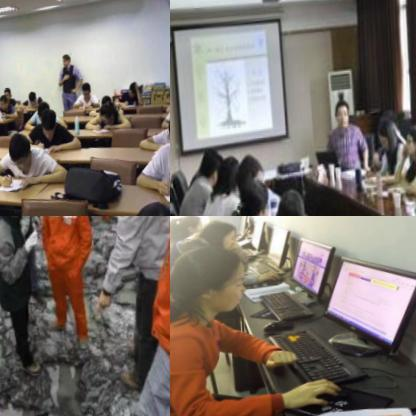head: (170, 244, 251, 325), (195, 220, 244, 266), (230, 149, 263, 204), (231, 174, 267, 216), (213, 150, 242, 198), (272, 183, 309, 216), (373, 114, 398, 158), (197, 144, 221, 188), (170, 216, 206, 245), (7, 136, 31, 176), (330, 98, 349, 133), (38, 112, 57, 146), (401, 125, 416, 167), (97, 107, 115, 135), (36, 104, 51, 125), (126, 87, 140, 107), (79, 84, 90, 103), (27, 93, 38, 112), (99, 98, 111, 115), (60, 56, 71, 72), (2, 90, 10, 105), (0, 97, 6, 114)
